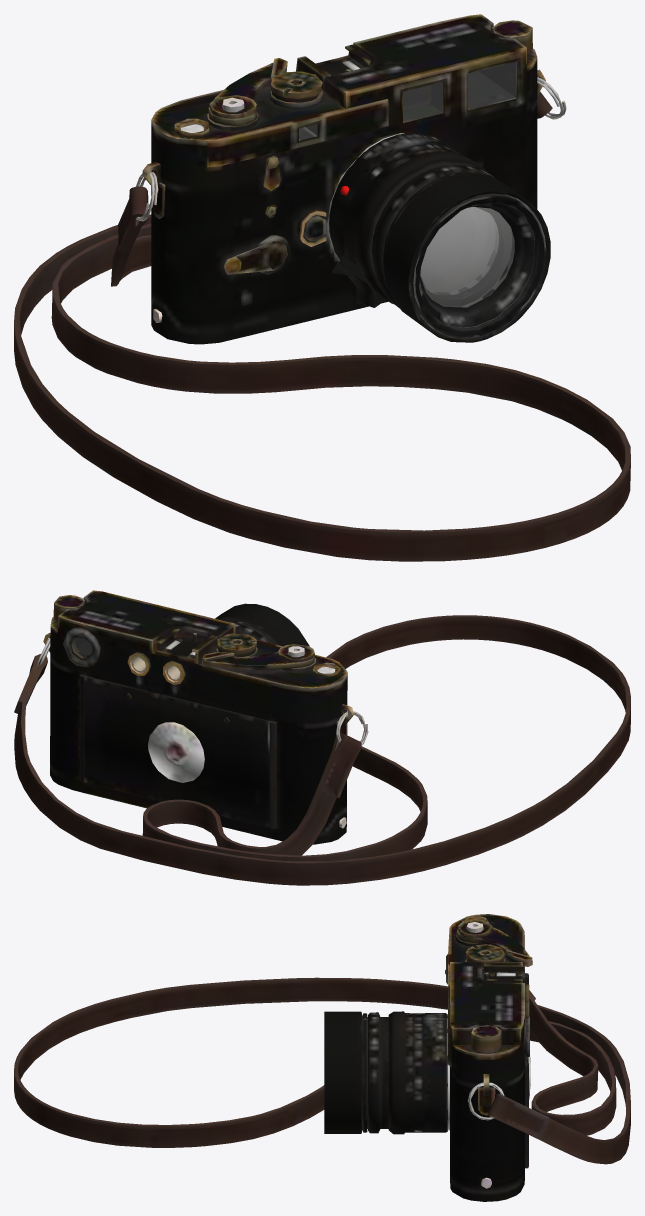
The model's file is design-camera-01.glb.
The picture shows the model from 3 angles, top to bottom: view 1: azimuth 30°, elevation 25°; view 2: azimuth 150°, elevation 25°; view 3: azimuth 270°, elevation 25°; orthographic projection. The views are drawn at different scales.
Parts seen in each view (by area): view 1: Camera_01, Camera_01_strap; view 2: Camera_01, Camera_01_strap; view 3: Camera_01, Camera_01_strap.
Boxes of the visible parts, bbox=[...] form: Camera_01: bbox=[142, 14, 550, 344]; Camera_01_strap: bbox=[14, 77, 630, 561]; Camera_01: bbox=[43, 590, 354, 844]; Camera_01_strap: bbox=[14, 615, 630, 885]; Camera_01: bbox=[324, 914, 532, 1201]; Camera_01_strap: bbox=[14, 977, 630, 1164].
Size of the model in its own units: 0.2139 by 0.0778 by 0.2628.
Materials: 4 (3 with a texture image).
